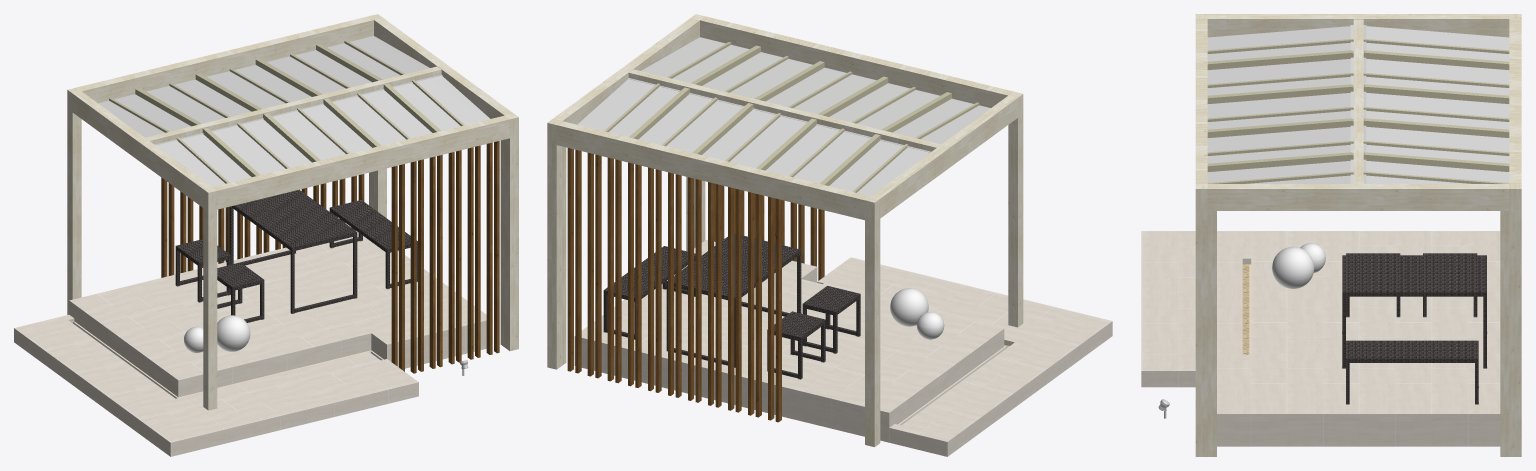
Rendered from hyg26-g_whitepine.fbx.
3 views of the same model, side by side, from view 1: azimuth 30°, elevation 25°; view 2: azimuth 150°, elevation 25°; view 3: azimuth 270°, elevation 25° (orthographic). The views are drawn at different scales.
Visible parts, largest first — view 1: hyg26-g_whitepine; view 2: hyg26-g_whitepine; view 3: hyg26-g_whitepine.
Boxes of the visible parts, x1,y1,x2,y2 form: hyg26-g_whitepine: (14, 14, 518, 456); hyg26-g_whitepine: (547, 14, 1112, 456); hyg26-g_whitepine: (1141, 14, 1521, 456).
Size of the model in its own units: 411 by 245 by 315.
Materials: 17 (9 with a texture image).
